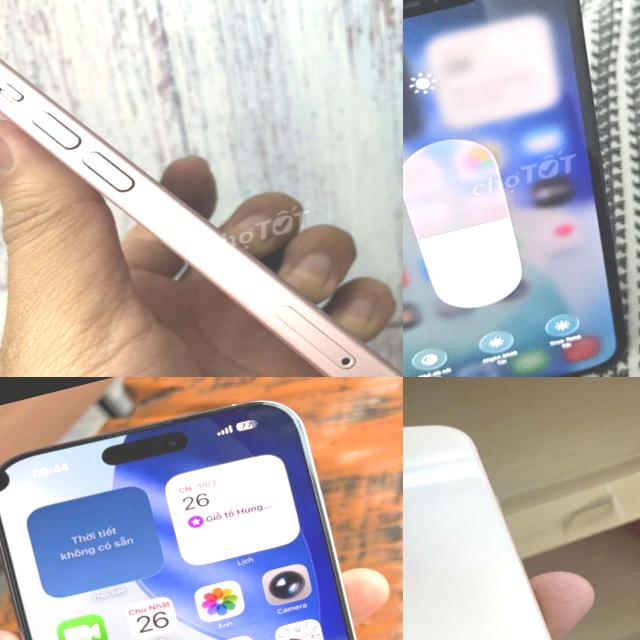gen_12_13: (403, 0, 640, 377)
gen_15: (0, 0, 403, 377)
gen_16: (0, 377, 403, 640)
gen_7_8: (403, 377, 640, 640)
screen_defect: (0, 453, 29, 507)
